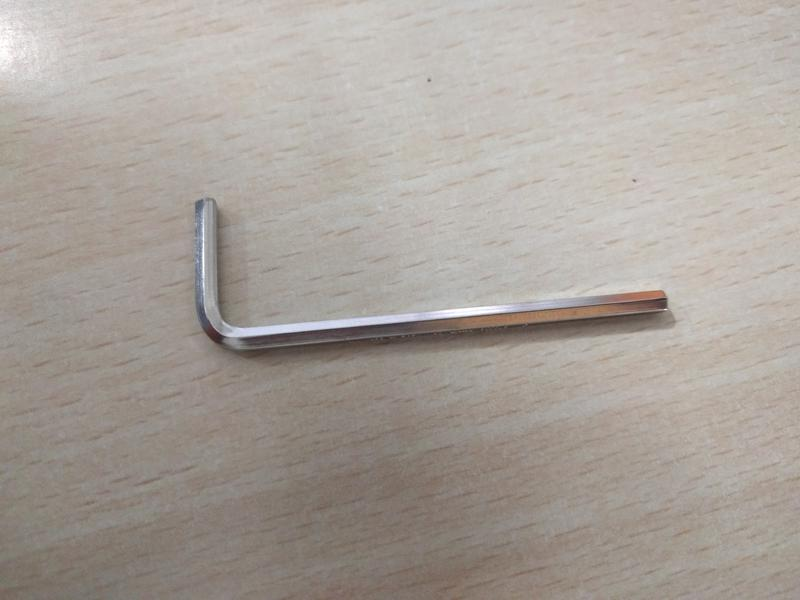turner: (178, 183, 684, 363)
